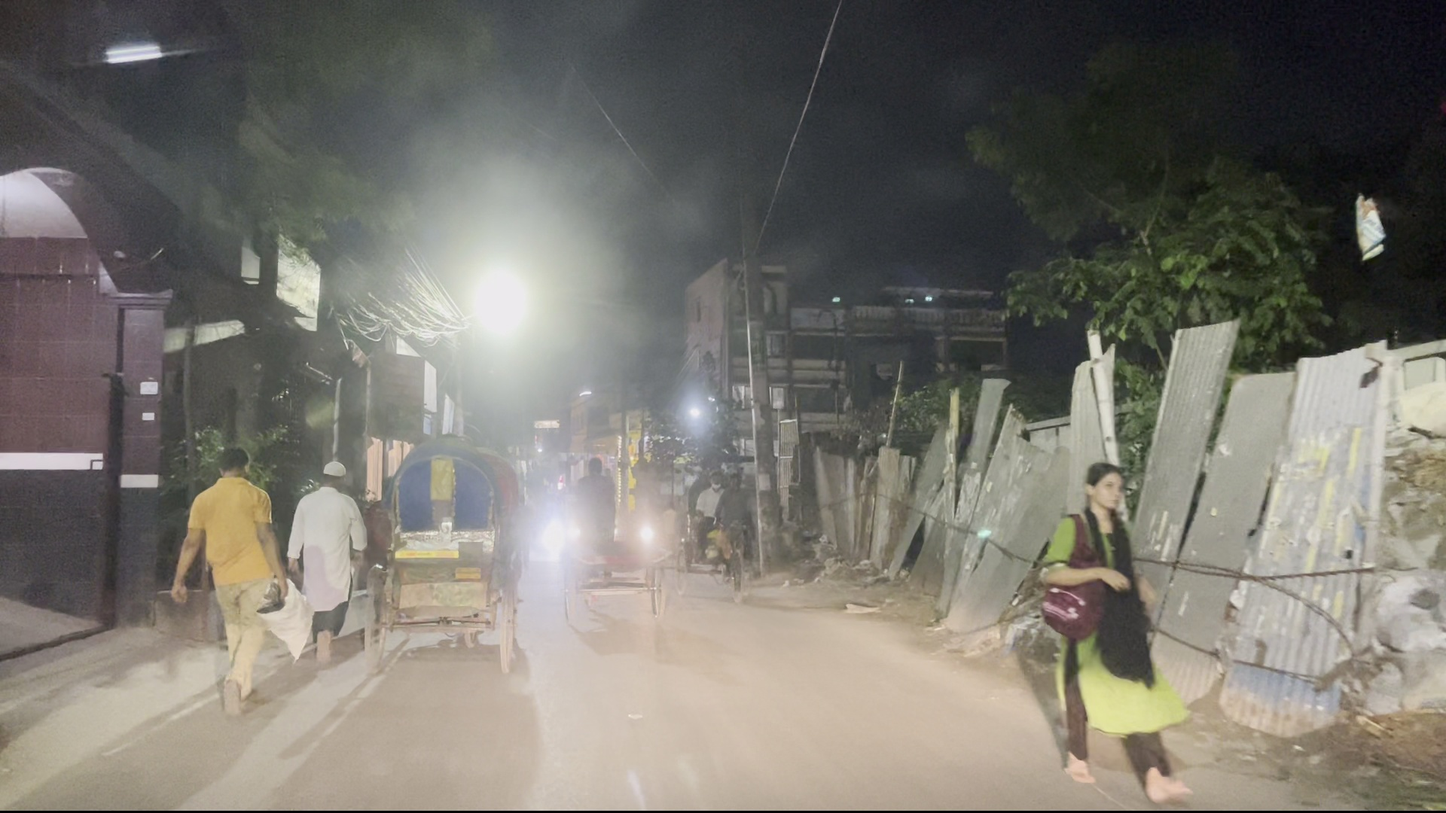person: (1014, 458, 1195, 800), (167, 443, 291, 713), (285, 450, 371, 674)
